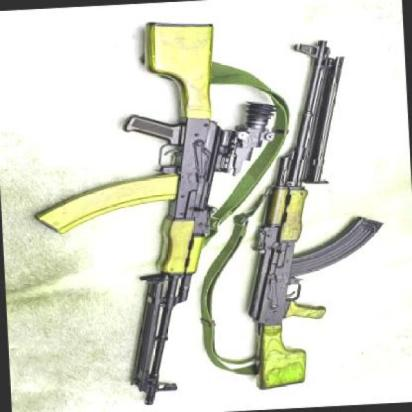Gun: (26, 13, 267, 412)
